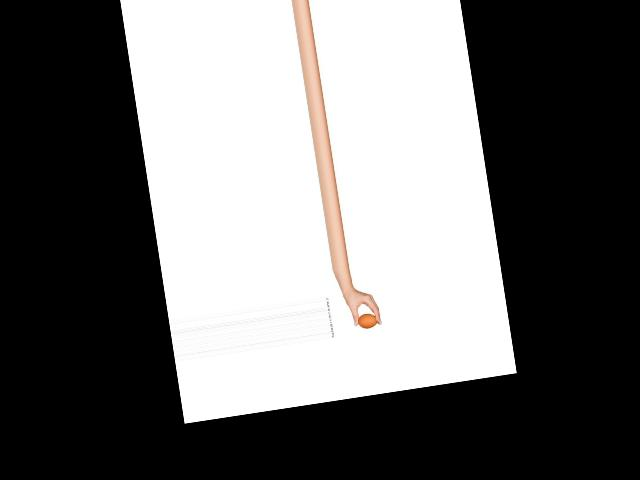egg: (356, 312, 378, 330)
